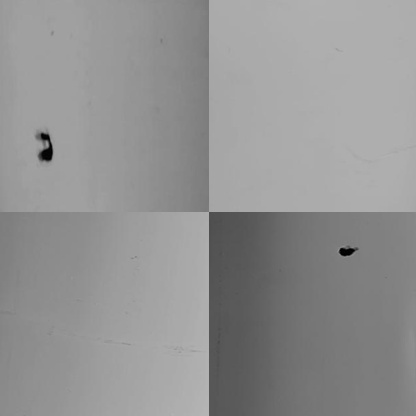kongdong: (31, 128, 61, 167), (337, 242, 357, 257)
